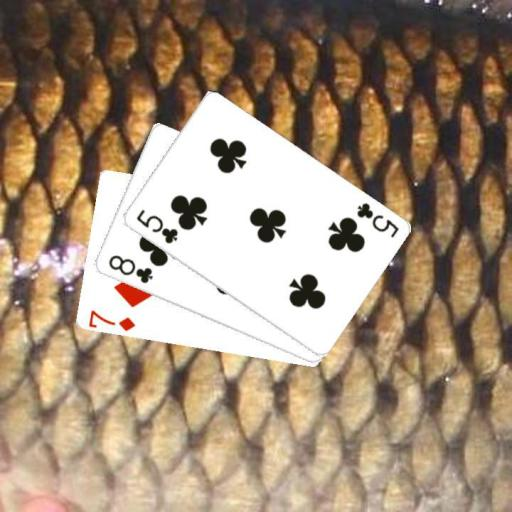5C: (132, 206, 179, 246), (353, 199, 400, 239)
7D: (86, 307, 137, 333)
8C: (105, 252, 155, 285)
